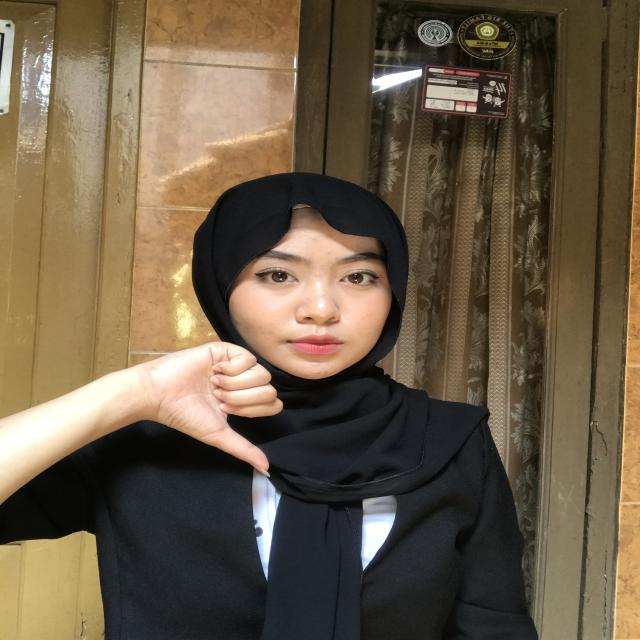sedih: (127, 317, 295, 481)
